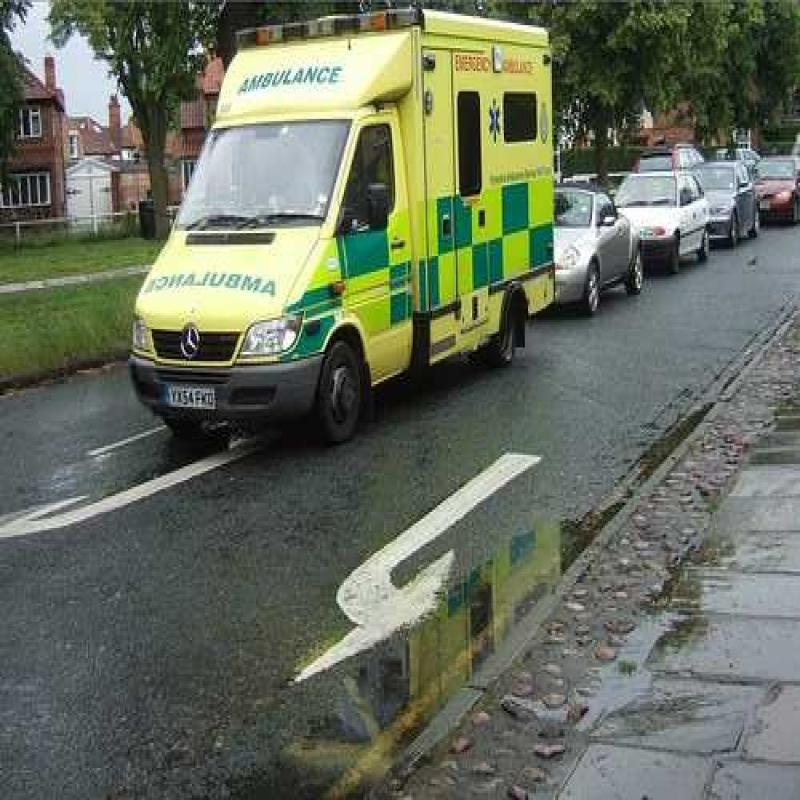AmbulanceSiren: (235, 6, 432, 48)
